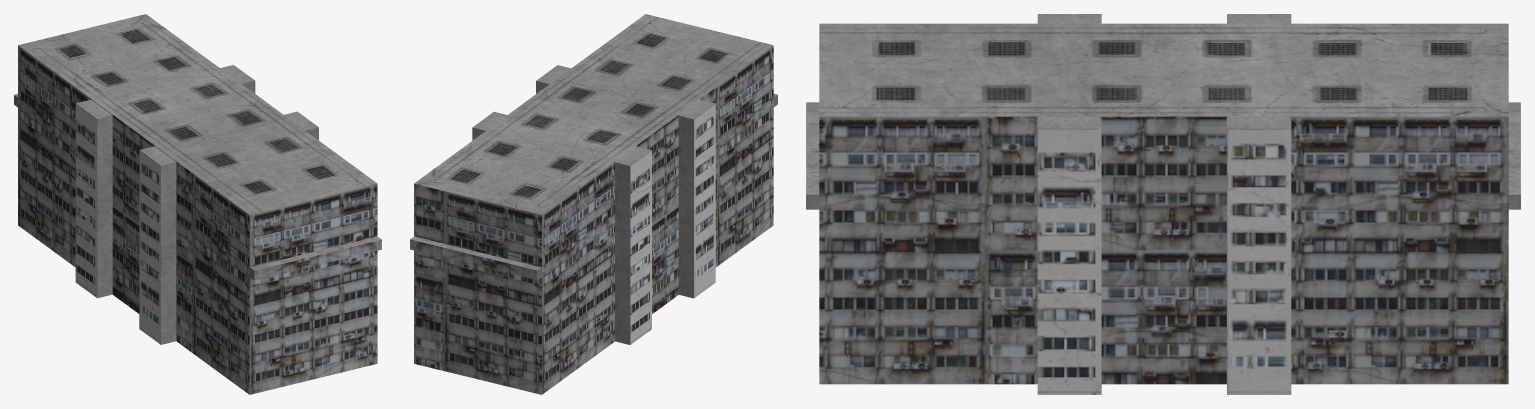
Rendered from HH_Building_Background_04.fbx.
The picture shows the model from 3 angles, left to right: view 1: azimuth 30°, elevation 25°; view 2: azimuth 150°, elevation 25°; view 3: azimuth 270°, elevation 25°; orthographic projection. The views are drawn at different scales.
Visible parts, largest first — view 1: HH_Building_Background_04; view 2: HH_Building_Background_04; view 3: HH_Building_Background_04.
Boxes of the visible parts, x1,y1,x2,y2 form: HH_Building_Background_04: [14, 14, 381, 394]; HH_Building_Background_04: [410, 14, 777, 394]; HH_Building_Background_04: [806, 14, 1520, 394].
Size of the model in its own units: 199 by 217 by 525.
